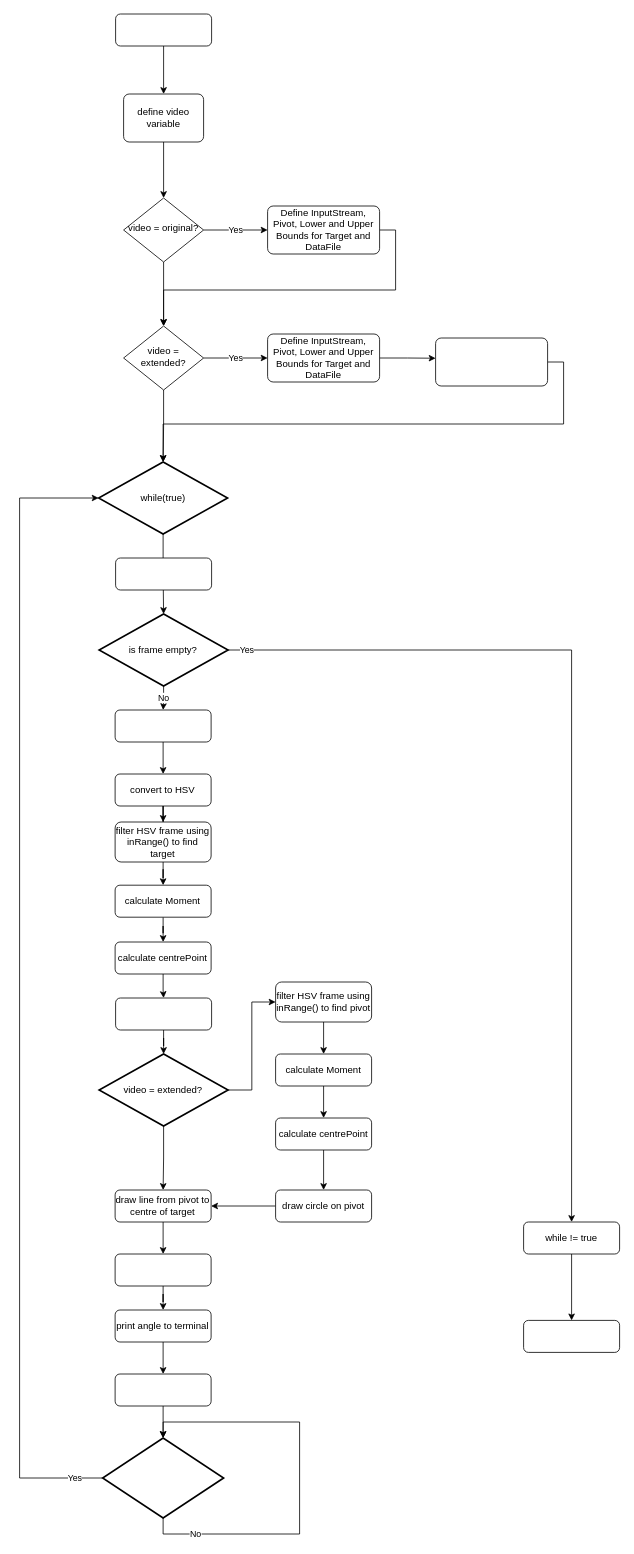
Some shapes in this 634 by 1554 pixel diagram are drawn without their labels. The centre of each missing label's shape, as x and y in pixels:
"calculateAngle of pendulum" belongs at (x=162, y=1269).
"Close Task" belongs at (x=571, y=1336).
"Define Lower and Upper bounds for Pivot" belongs at (x=491, y=361).
"draw circle on target" belongs at (x=163, y=1013).
"key X pressed or 10 seconds passed?" belongs at (x=162, y=1477).
"print angle to csv" belongs at (x=162, y=1389).
"read next frame of video" belongs at (x=163, y=573).
"resize frame" belongs at (x=162, y=725).
"Start Task 2" belongs at (x=163, y=29).
